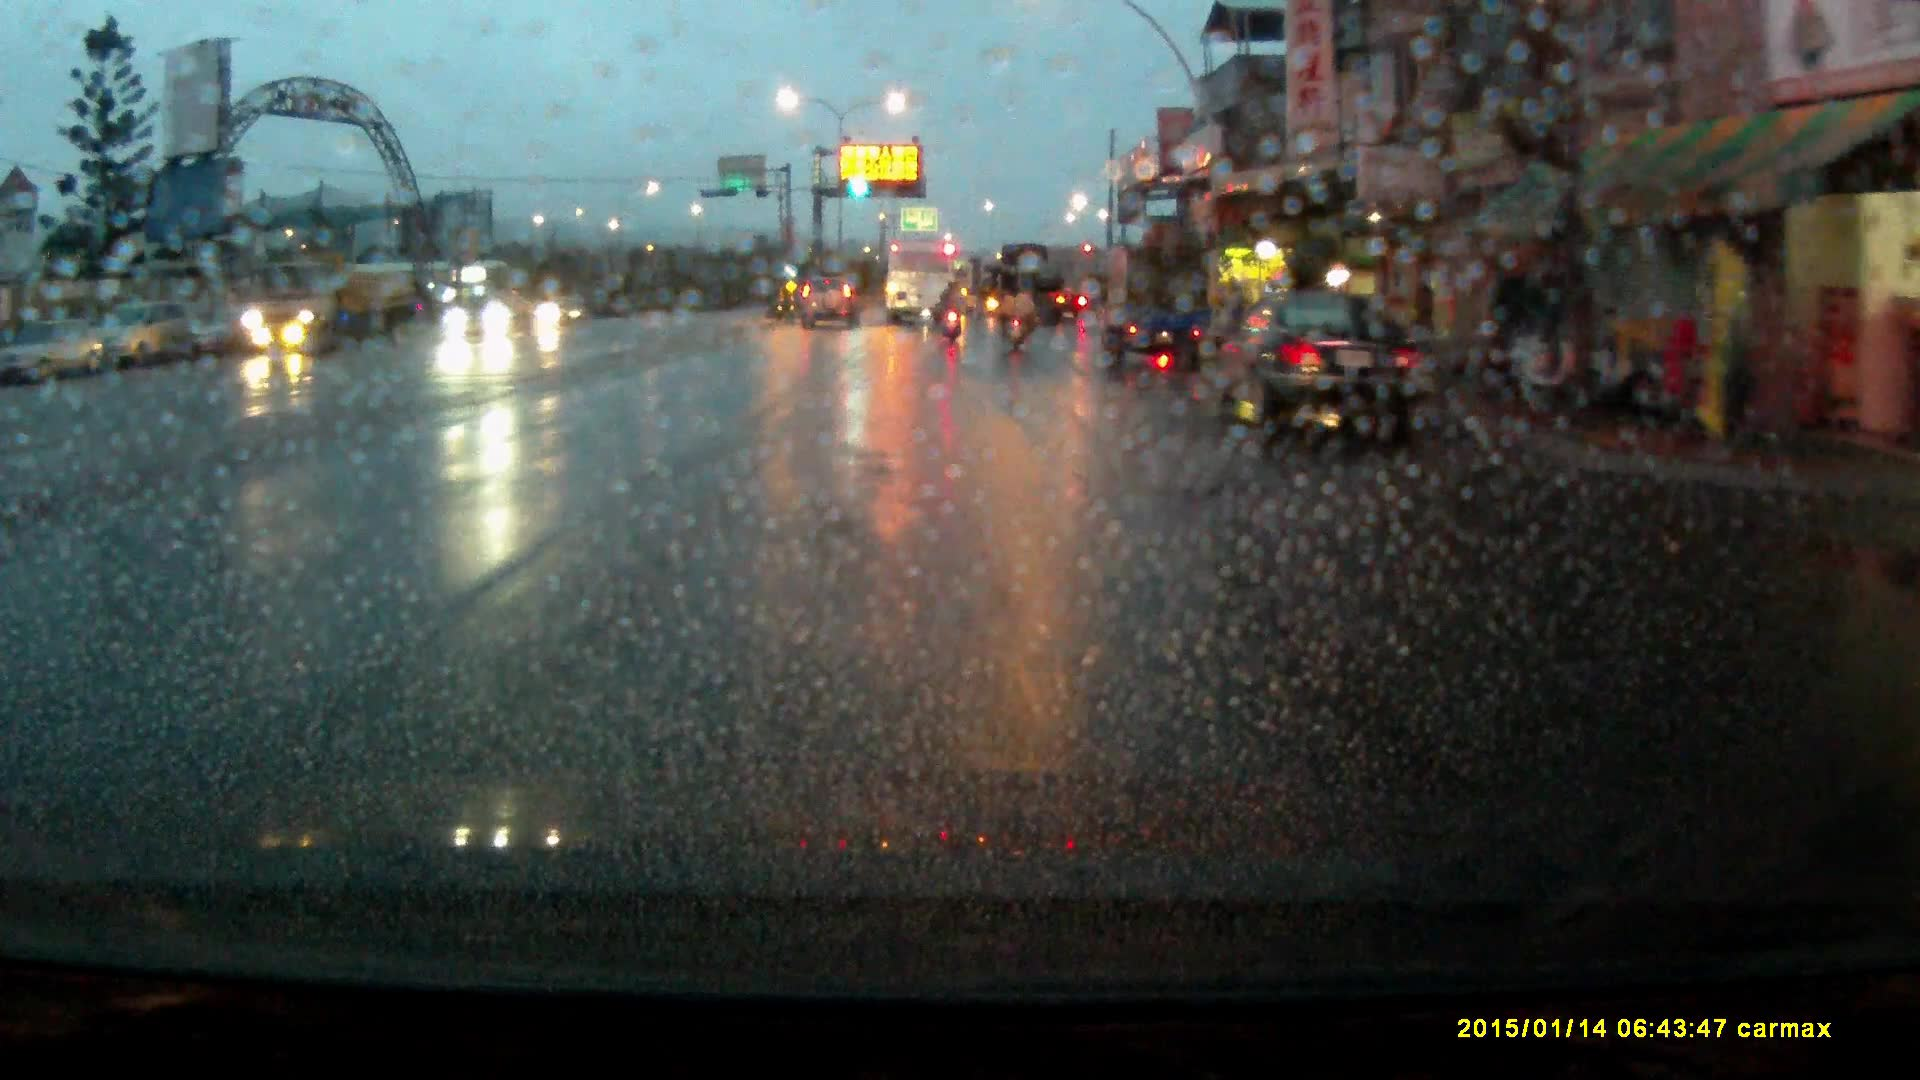rider: (995, 276, 1031, 359), (941, 281, 967, 349)
vehicle: (1211, 298, 1435, 443), (241, 259, 419, 360), (1096, 251, 1214, 371), (84, 307, 184, 377), (999, 246, 1069, 333), (885, 248, 953, 333), (20, 323, 106, 390), (442, 297, 532, 347), (799, 278, 862, 338), (540, 295, 591, 337)
